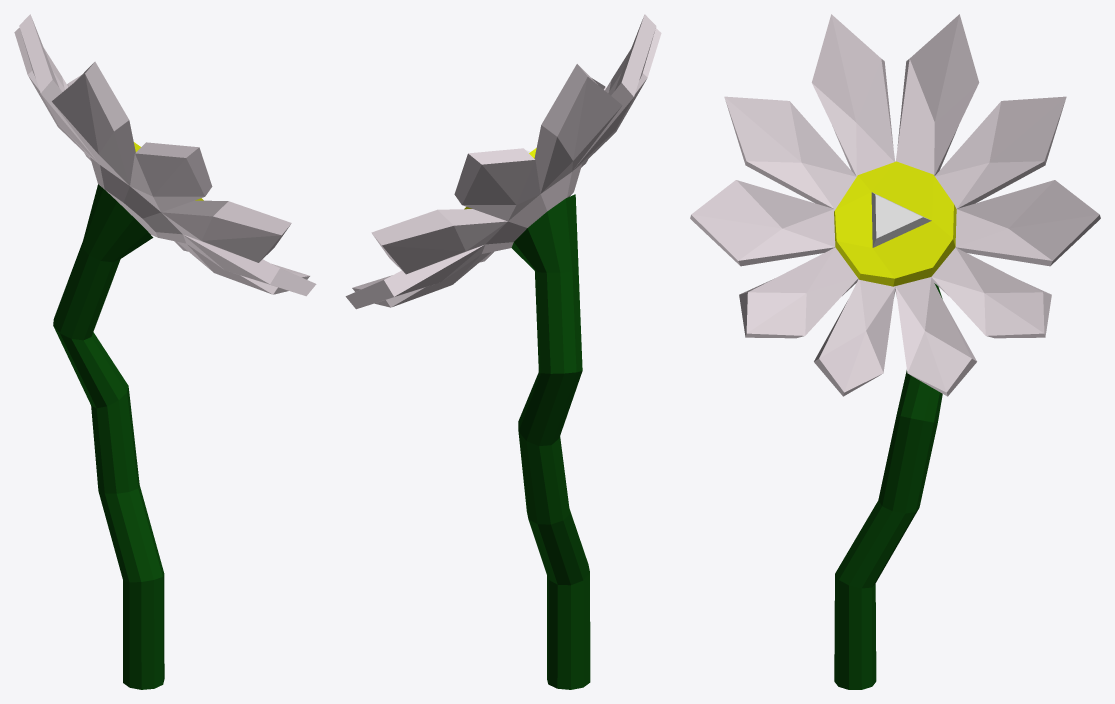
Rendered from PlayButtonFlower.fbx.
3 views of the same model, side by side, from view 1: azimuth 30°, elevation 25°; view 2: azimuth 150°, elevation 25°; view 3: azimuth 270°, elevation 25° (orthographic). The views are drawn at different scales.
Parts seen in each view (by area): view 1: Cylinder.001, Cylinder; view 2: Cylinder.001, Cylinder; view 3: Cylinder.001, Cylinder, Cylinder.002.
Boxes of the visible parts, bbox=[...] form: Cylinder.001: bbox=[14, 14, 316, 296]; Cylinder: bbox=[53, 184, 164, 689]; Cylinder.001: bbox=[345, 14, 661, 309]; Cylinder: bbox=[511, 194, 590, 689]; Cylinder.001: bbox=[690, 14, 1100, 396]; Cylinder: bbox=[834, 283, 942, 689]; Cylinder.002: bbox=[834, 161, 956, 286].
Bounding box in the file's own units: 1299 × 3350 × 1955.
